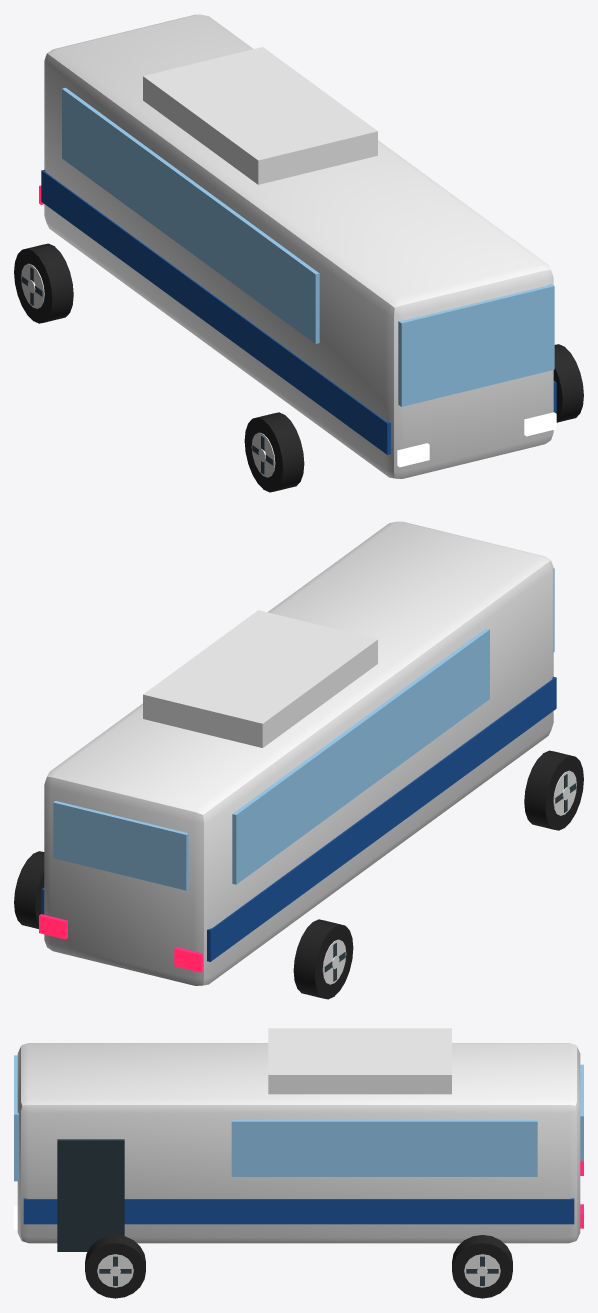
The model's file is airport_shuttle.glb.
The picture shows the model from 3 angles, top to bottom: view 1: azimuth 30°, elevation 25°; view 2: azimuth 150°, elevation 25°; view 3: azimuth 270°, elevation 25°; orthographic projection. The views are drawn at different scales.
Visible parts, largest first — view 1: AirportShuttle_body, Wheel_RR.001, Wheel_FR.001, Wheel_FL.001; view 2: AirportShuttle_body, Wheel_FR.001, Wheel_RR.001, Wheel_RL.001; view 3: AirportShuttle_body, Wheel_FL.001, Wheel_RL.001.
Boxes of the visible parts, <box> form: AirportShuttle_body: <box>39,14,556,478</box>; Wheel_RR.001: <box>14,243,73,323</box>; Wheel_FR.001: <box>244,412,304,492</box>; Wheel_FL.001: <box>553,344,583,422</box>; AirportShuttle_body: <box>39,521,556,985</box>; Wheel_FR.001: <box>524,750,583,830</box>; Wheel_RR.001: <box>293,919,353,999</box>; Wheel_RL.001: <box>14,851,44,928</box>; AirportShuttle_body: <box>14,1028,583,1251</box>; Wheel_FL.001: <box>85,1235,145,1298</box>; Wheel_RL.001: <box>452,1235,512,1298</box>.
Bounding box in the file's own units: 4.58 × 3.4 × 9.32.
